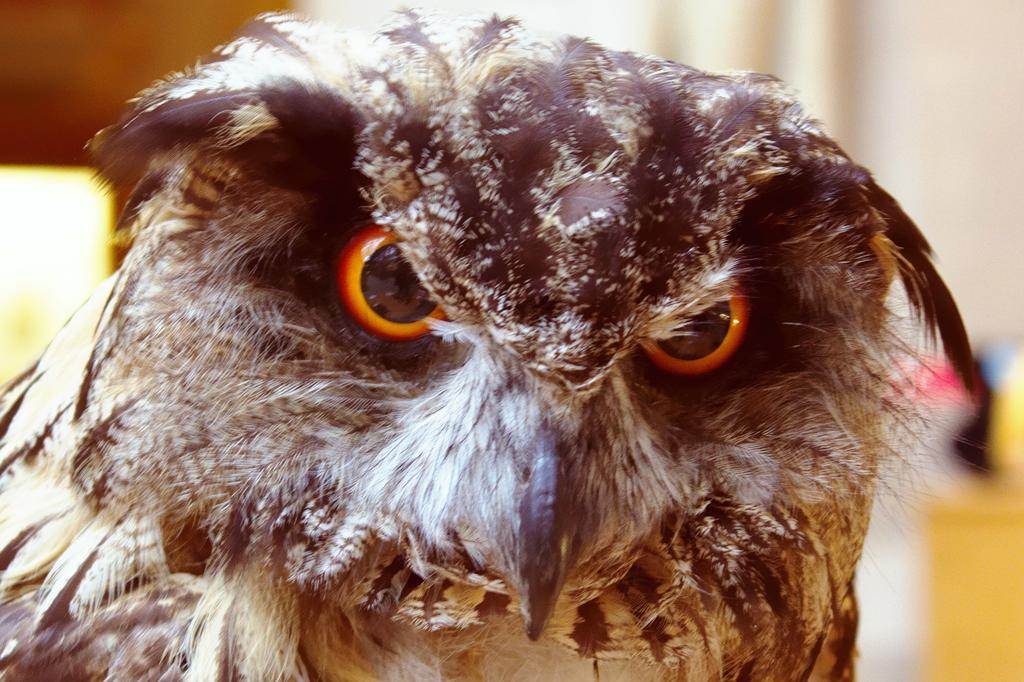Owl: (0, 15, 1009, 682)
